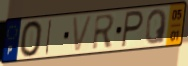I: (44, 18, 54, 57)
O: (19, 19, 44, 59)
P: (120, 9, 145, 50)
Q: (144, 8, 169, 46)
R: (91, 13, 116, 52)
V: (71, 14, 95, 54)
